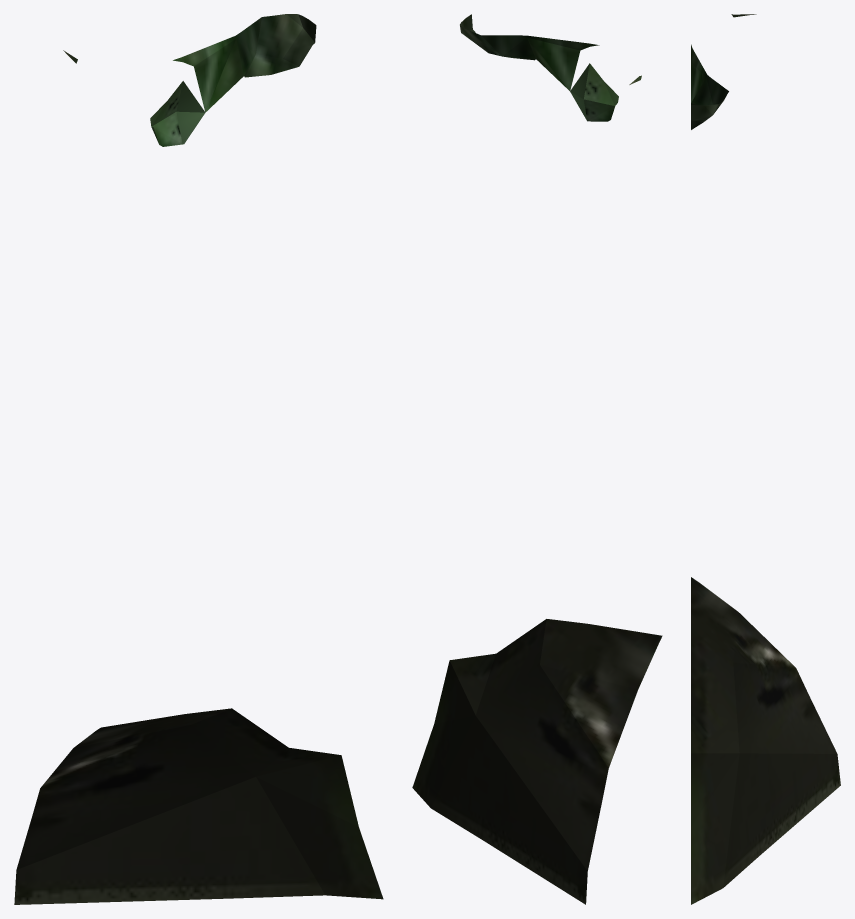
3 renders of one model, left to right at view 1: azimuth 30°, elevation 25°; view 2: azimuth 150°, elevation 25°; view 3: azimuth 270°, elevation 25°, orthographic. The views are drawn at different scales.
Bounding box in the file's own units: 0.5564 × 1.67 × 0.2949.
1 material, 1 textured.
